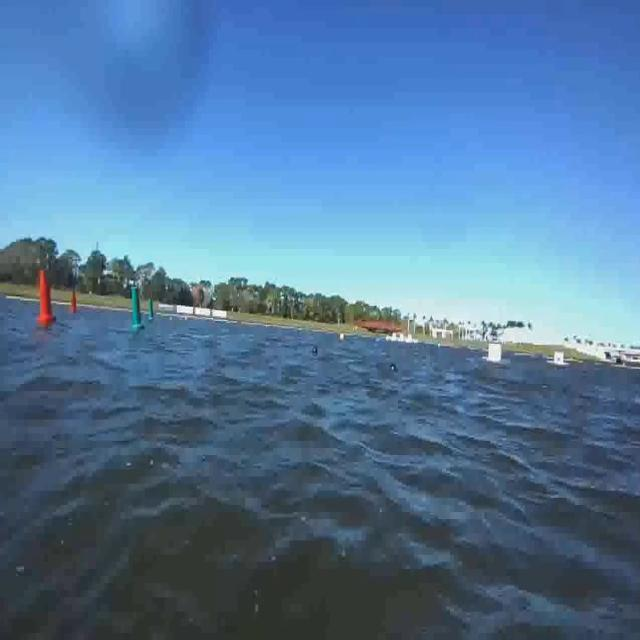black-buoy: (313, 347, 319, 355), (391, 364, 397, 370)
green-column-buoy: (130, 285, 145, 331), (147, 296, 155, 319)
red-column-buoy: (36, 269, 55, 324), (70, 289, 80, 313)
